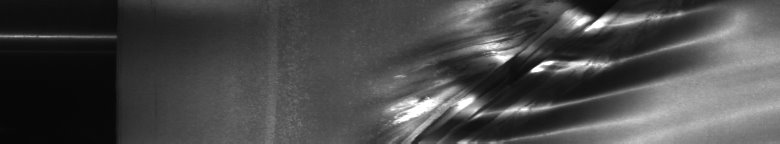ke: (386, 4, 708, 136)
